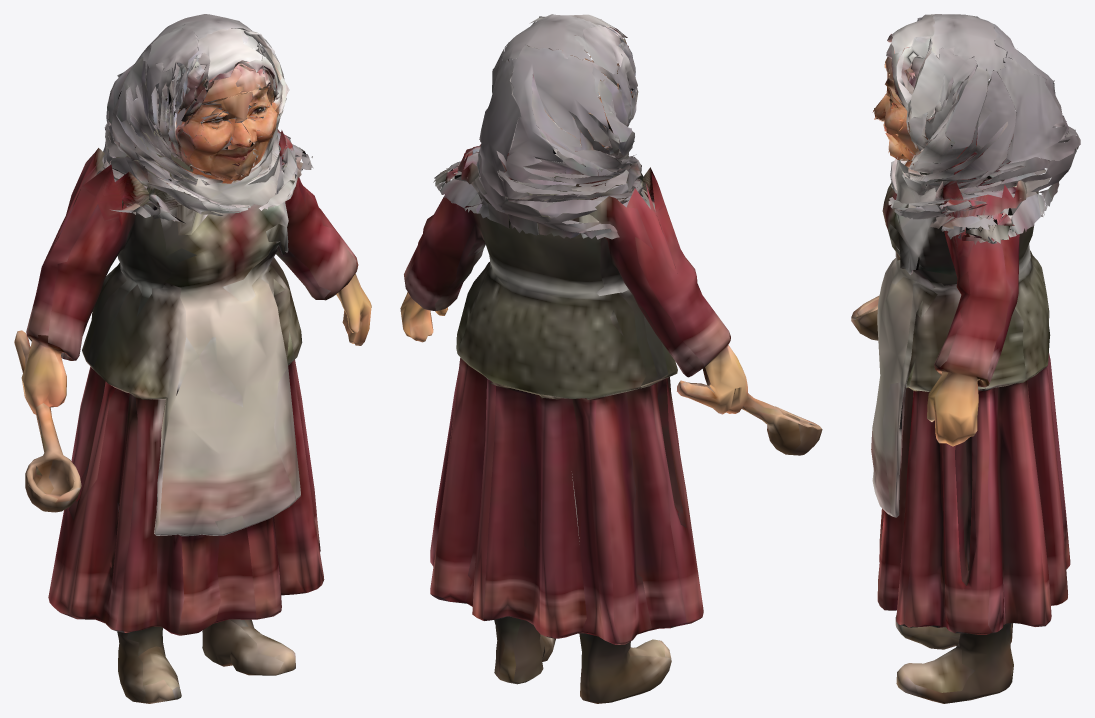
The model's file is cook.gen.phone.glb.
3 views of the same model, side by side, from view 1: azimuth 30°, elevation 25°; view 2: azimuth 150°, elevation 25°; view 3: azimuth 270°, elevation 25° (orthographic).
Parts seen in each view (by area): view 1: cook.raw; view 2: cook.raw; view 3: cook.raw.
Part boxes in pixels (x1,y1,x2,y2): cook.raw: [14, 14, 371, 703]; cook.raw: [400, 14, 822, 703]; cook.raw: [851, 14, 1080, 703].
Bounding box in the file's own units: 1.06 × 1.75 × 0.5576.
1 material, 1 textured.
